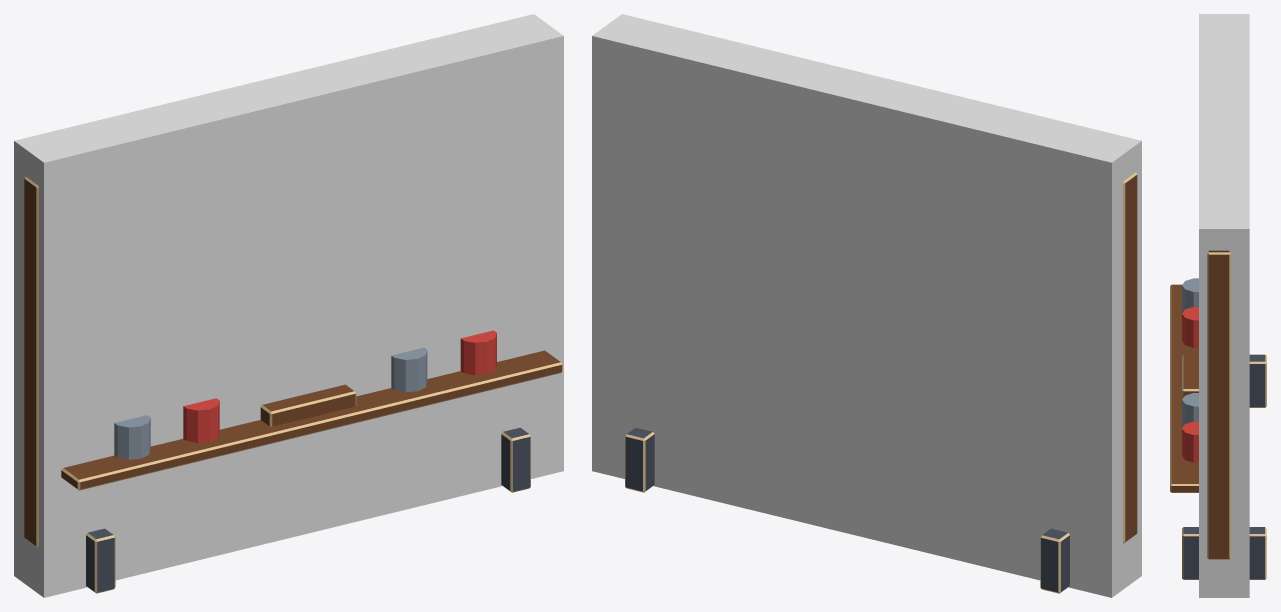
The model's file is prop_toolwall_a.glb.
3 renders of one model, left to right at view 1: azimuth 30°, elevation 25°; view 2: azimuth 150°, elevation 25°; view 3: azimuth 270°, elevation 25°, orthographic. The views are drawn at different scales.
Parts seen in each view (by area): view 1: COL_prop_toolwall_a_1, prop_toolwall_a; view 2: COL_prop_toolwall_a_1, prop_toolwall_a; view 3: COL_prop_toolwall_a_1, prop_toolwall_a.
Boxes of the visible parts, left/top/right/bottom form: COL_prop_toolwall_a_1: left=14, top=14, right=563, bottom=597; prop_toolwall_a: left=24, top=177, right=562, bottom=593; COL_prop_toolwall_a_1: left=592, top=14, right=1141, bottom=597; prop_toolwall_a: left=625, top=172, right=1137, bottom=593; COL_prop_toolwall_a_1: left=1199, top=14, right=1249, bottom=597; prop_toolwall_a: left=1170, top=250, right=1266, bottom=579.
Size of the model in its own units: 3.02 by 2.4 by 0.5714.
